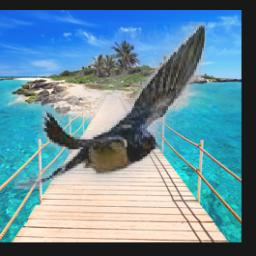Swallow: (14, 22, 206, 189)
